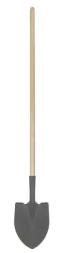PELLE: (11, 2, 63, 253)
